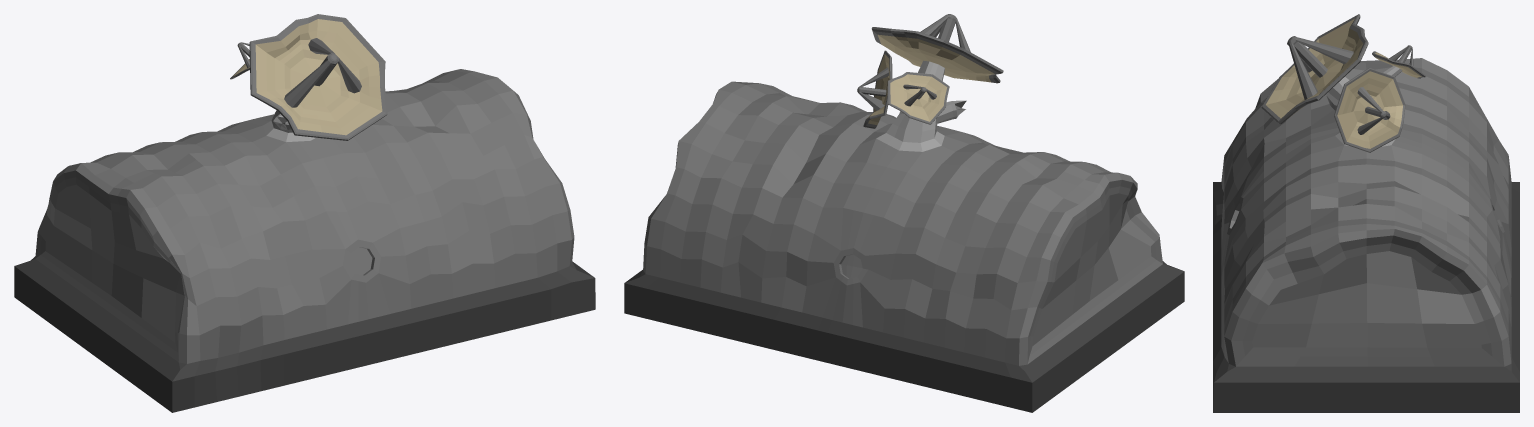
The model's file is BunkerExteriorFinal.fbx.
The picture shows the model from 3 angles, left to right: view 1: azimuth 30°, elevation 25°; view 2: azimuth 150°, elevation 25°; view 3: azimuth 270°, elevation 25°; orthographic projection. The views are drawn at different scales.
Visible parts, largest first — view 1: BunkerSD; view 2: BunkerSD; view 3: BunkerSD.
Boxes of the visible parts, x1,y1,x2,y2 form: BunkerSD: [14, 14, 595, 412]; BunkerSD: [624, 14, 1184, 412]; BunkerSD: [1213, 14, 1519, 412].
Size of the model in its own units: 1602 by 1040 by 1036.
